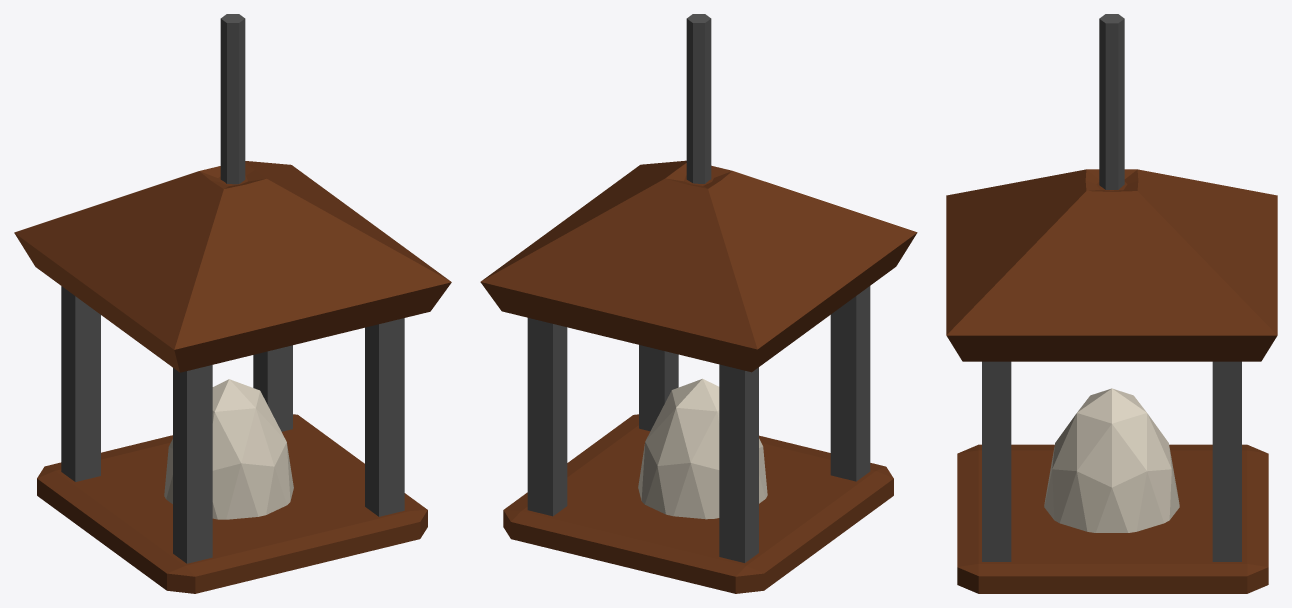
Rendered from lantern.fbx.
3 renders of one model, left to right at view 1: azimuth 30°, elevation 25°; view 2: azimuth 150°, elevation 25°; view 3: azimuth 270°, elevation 25°, orthographic. The views are drawn at different scales.
Parts seen in each view (by area): view 1: Cube, Cylinder; view 2: Cube, Cylinder; view 3: Cube, Cylinder.
Boxes of the visible parts, x1,y1,x2,y2 form: Cube: (14, 161, 451, 593); Cylinder: (220, 14, 245, 184); Cube: (480, 160, 917, 593); Cylinder: (686, 14, 711, 183); Cube: (946, 169, 1277, 593); Cylinder: (1099, 14, 1124, 189).
Bounding box in the file's own units: 150 × 257 × 150.
